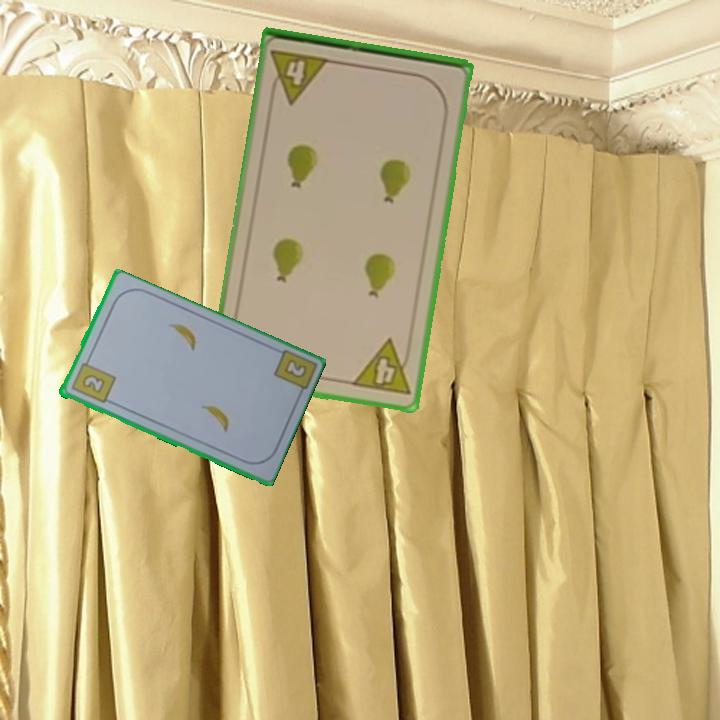2b: (67, 354, 118, 406), (280, 355, 309, 381)
4p: (348, 335, 415, 399), (266, 46, 333, 107)
